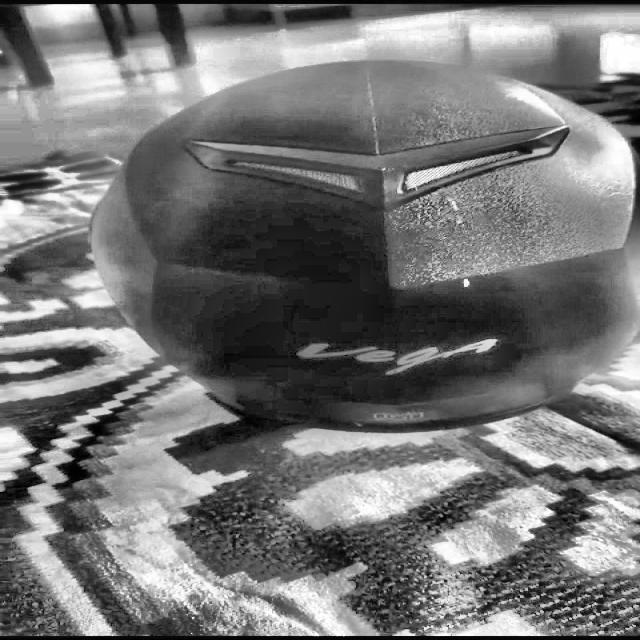Helmet: (88, 47, 640, 456)
